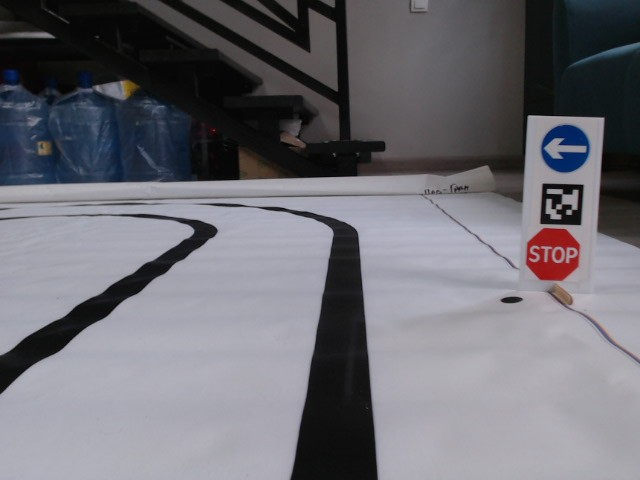Stop: (525, 227, 582, 283)
